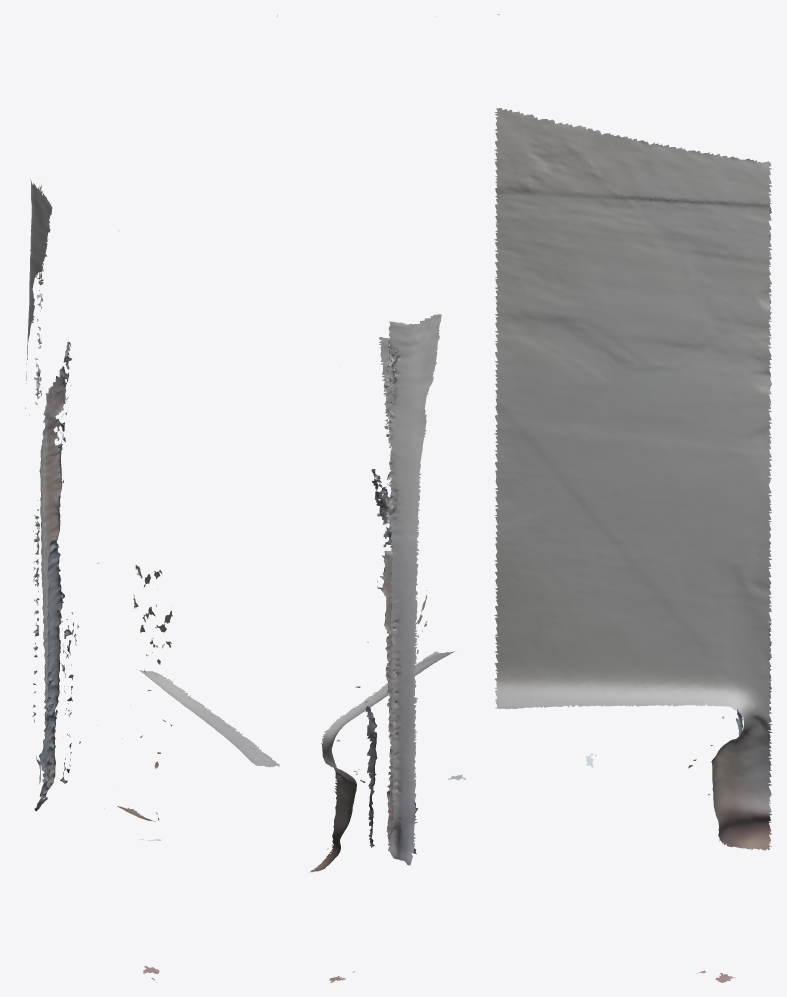
File: apartment-full-66-84afac16626d.glb
3 views of the same model, side by side, from view 1: azimuth 30°, elevation 25°; view 2: azimuth 150°, elevation 25°; view 3: azimuth 270°, elevation 25° (orthographic). The views are drawn at different scales.
Size of the model in its own units: 0.343 by 2.82 by 0.735.
